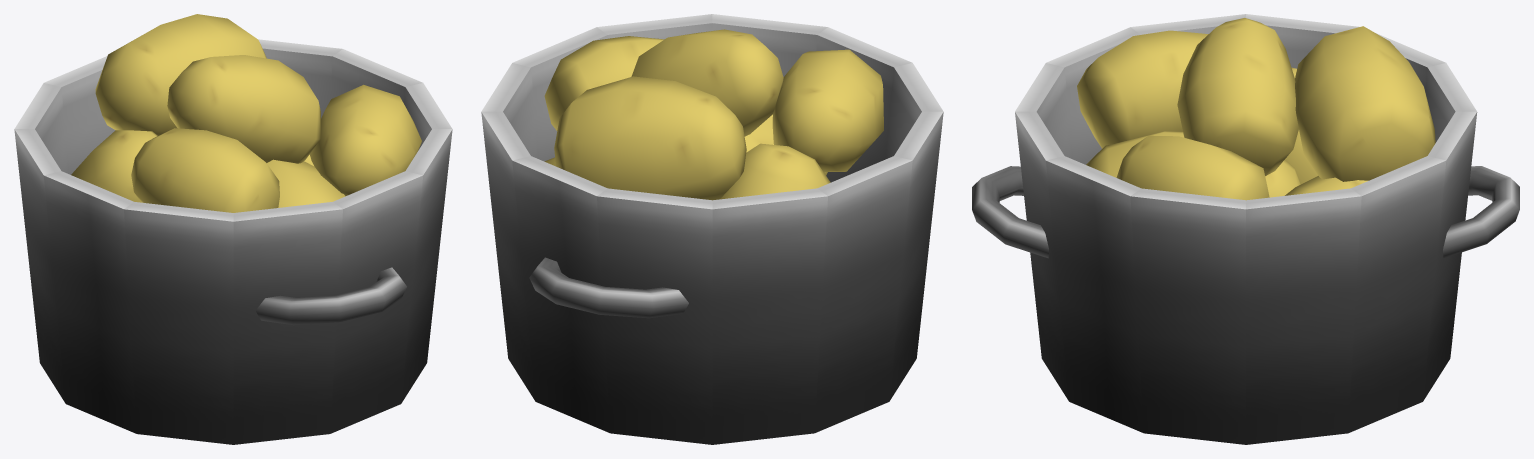
File: assets_potatokettle.fbx
The picture shows the model from 3 angles, left to right: view 1: azimuth 30°, elevation 25°; view 2: azimuth 150°, elevation 25°; view 3: azimuth 270°, elevation 25°; orthographic projection. The views are drawn at different scales.
Visible parts, largest first — view 1: assets_potatokettle; view 2: assets_potatokettle; view 3: assets_potatokettle.
Part boxes in pixels (left/top/right/bottom): assets_potatokettle: left=14, top=14, right=452, bottom=444; assets_potatokettle: left=481, top=14, right=943, bottom=444; assets_potatokettle: left=972, top=14, right=1519, bottom=444.
Bounding box in the file's own units: 3.64 × 2.85 × 4.32.
